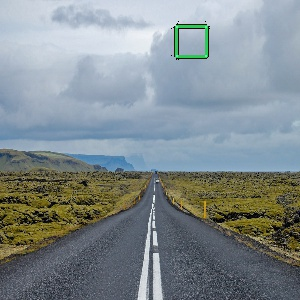square: (171, 22, 213, 61)
